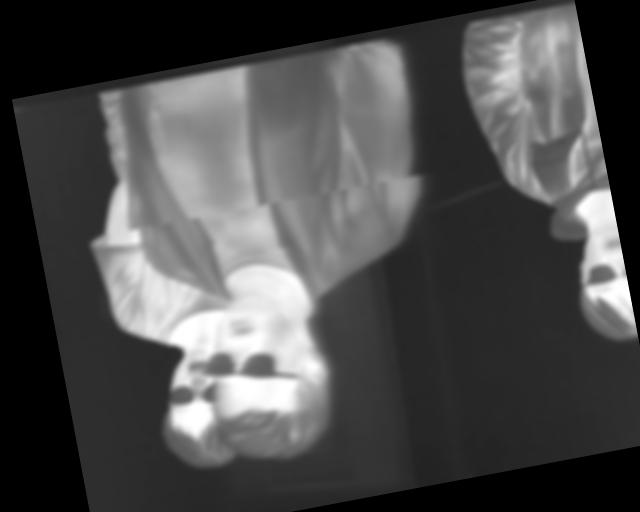face: (198, 282, 343, 472), (147, 347, 237, 479), (566, 222, 638, 350)
